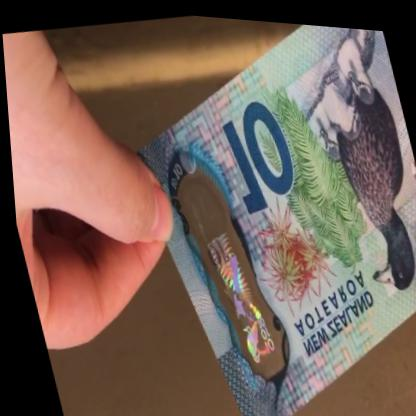10F: (192, 210, 277, 372)
